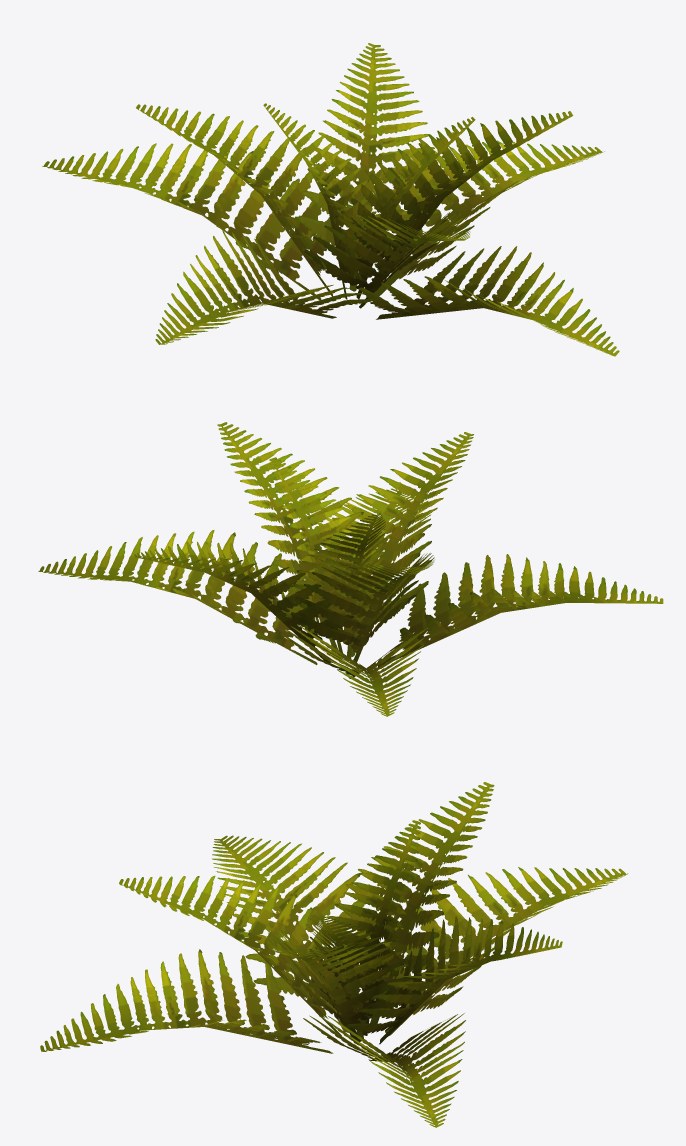
Rendered from bush.fbx.
3 renders of one model, top to bottom at view 1: azimuth 30°, elevation 25°; view 2: azimuth 150°, elevation 25°; view 3: azimuth 270°, elevation 25°, orthographic. The views are drawn at different scales.
Visible parts, largest first — view 1: Bush; view 2: Bush; view 3: Bush.
Boxes of the visible parts, bbox=[...] form: Bush: bbox=[42, 43, 619, 356]; Bush: bbox=[38, 422, 663, 716]; Bush: bbox=[40, 782, 628, 1127].
Bounding box in the file's own units: 3.61 × 1.35 × 3.5.
